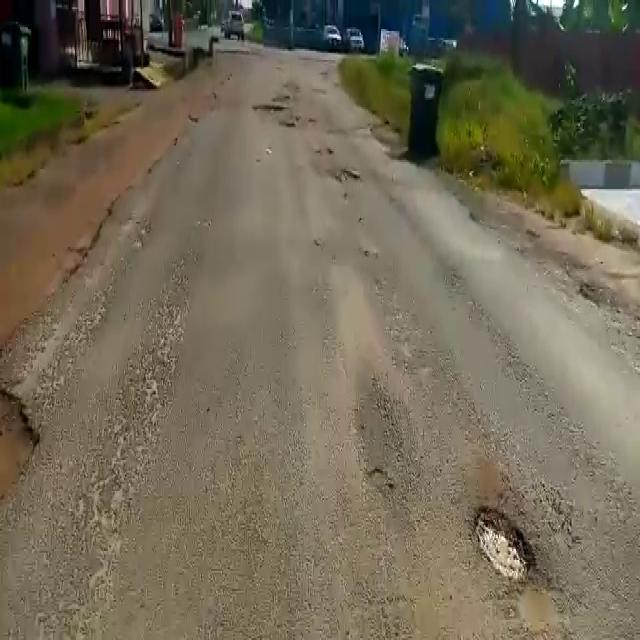Pothole: (466, 504, 544, 586), (324, 167, 364, 186)
